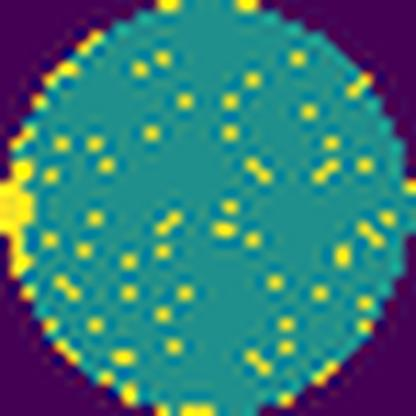Edge-Loc: (0, 153, 41, 276)
